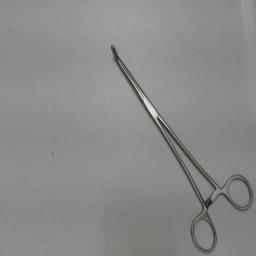Lahey Forceps: (107, 38, 255, 254)
